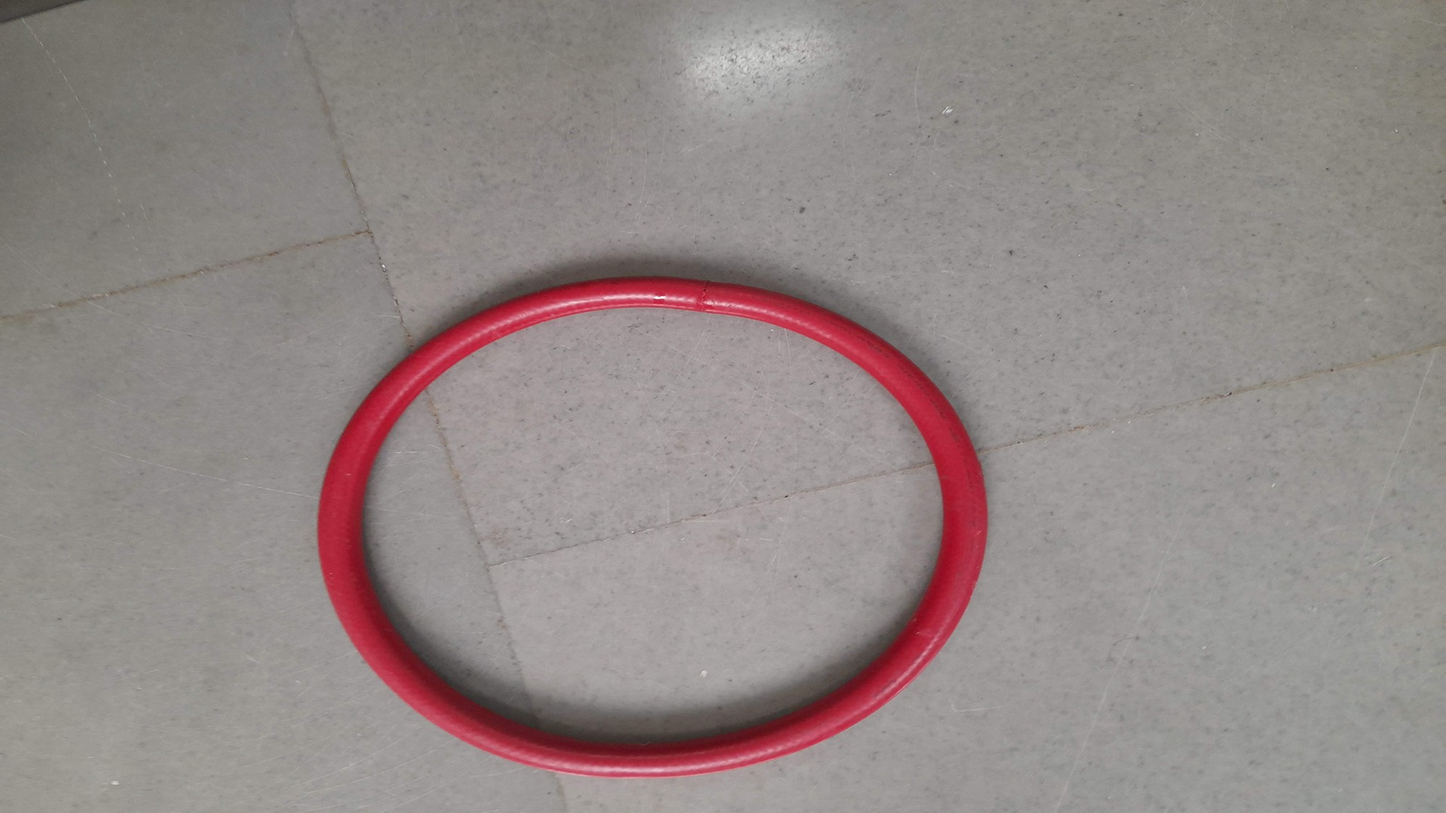Red ring: (315, 276, 987, 778)
